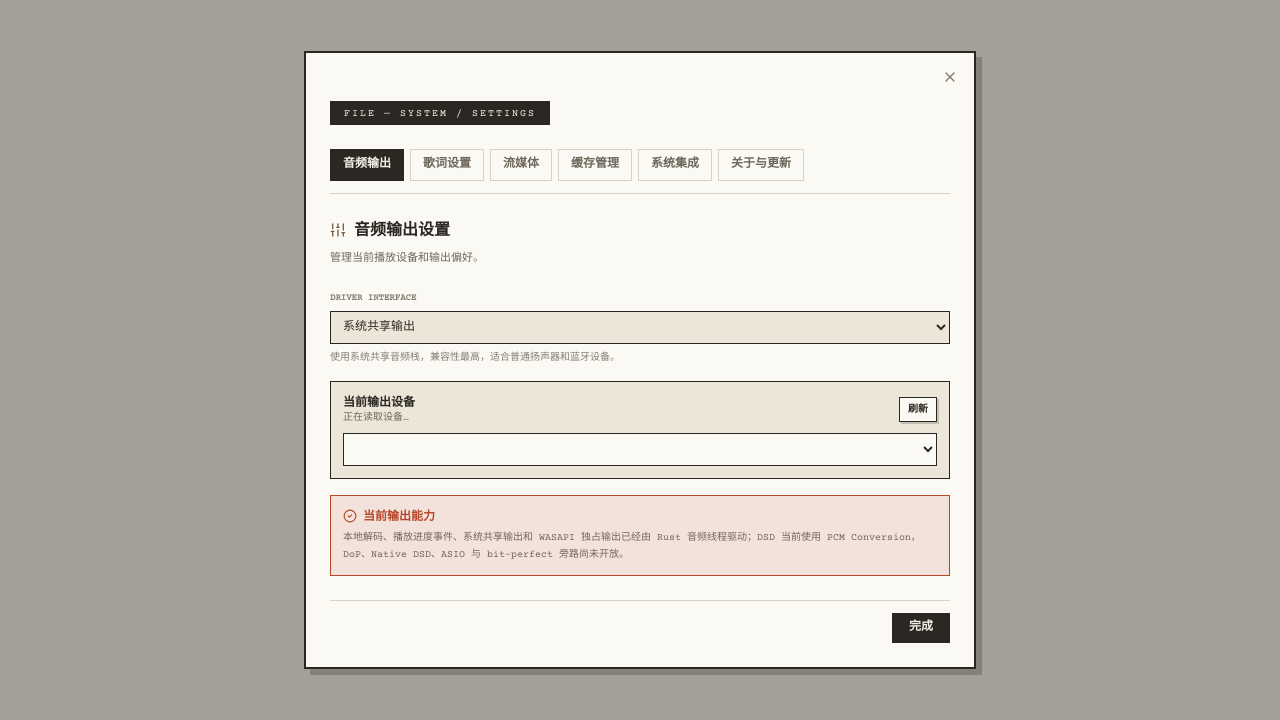
Scenario: 设置页（issues-2） › CACHE-03：没有旧目录时不出现这一块；改了缓存目录时说明原目录的文件不会移动
Click the tab "缓存管理" at (595, 165), box x1=558 y1=149 x2=632 y2=181
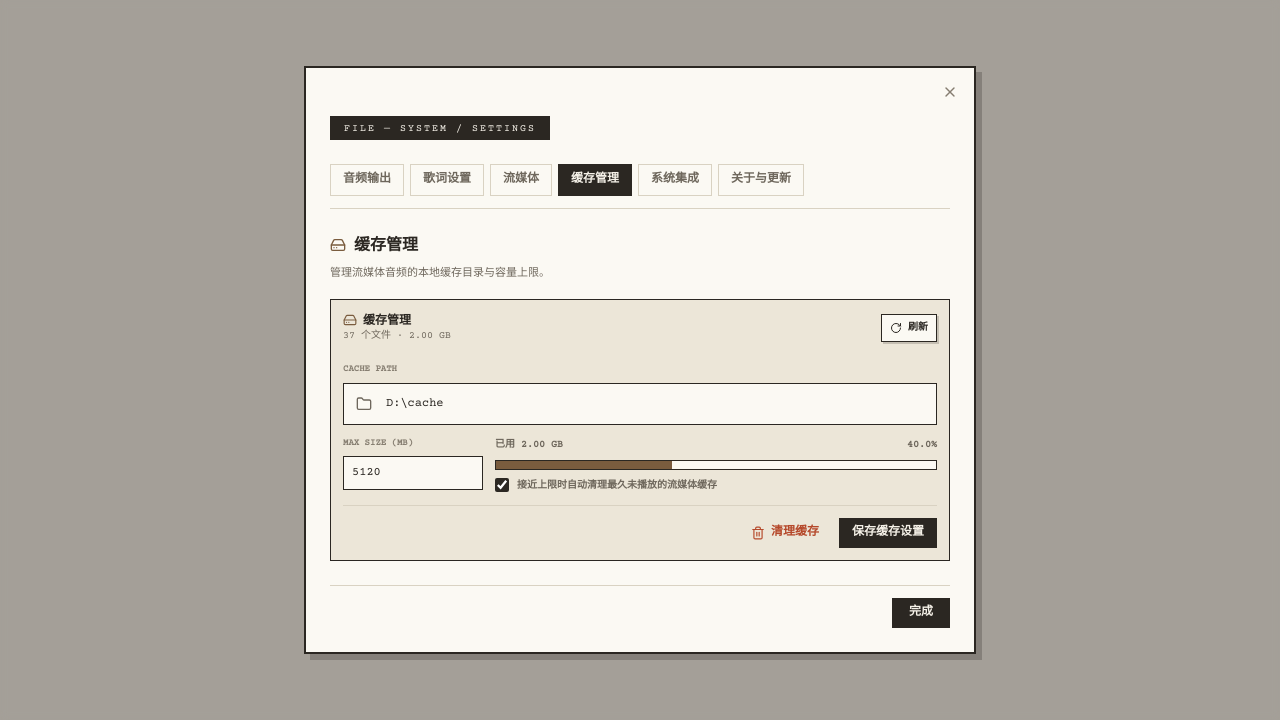
Expected: the text "原目录里已下载的文件不会移动" is not shown
Now the text "37 个文件 · 2.00 GB" is shown, box x1=343 y1=328 x2=451 y2=343
Replace the text in the field labelled "Cache Path" with "E:\\new-cache" at (658, 404), box x1=386 y1=396 x2=930 y2=412
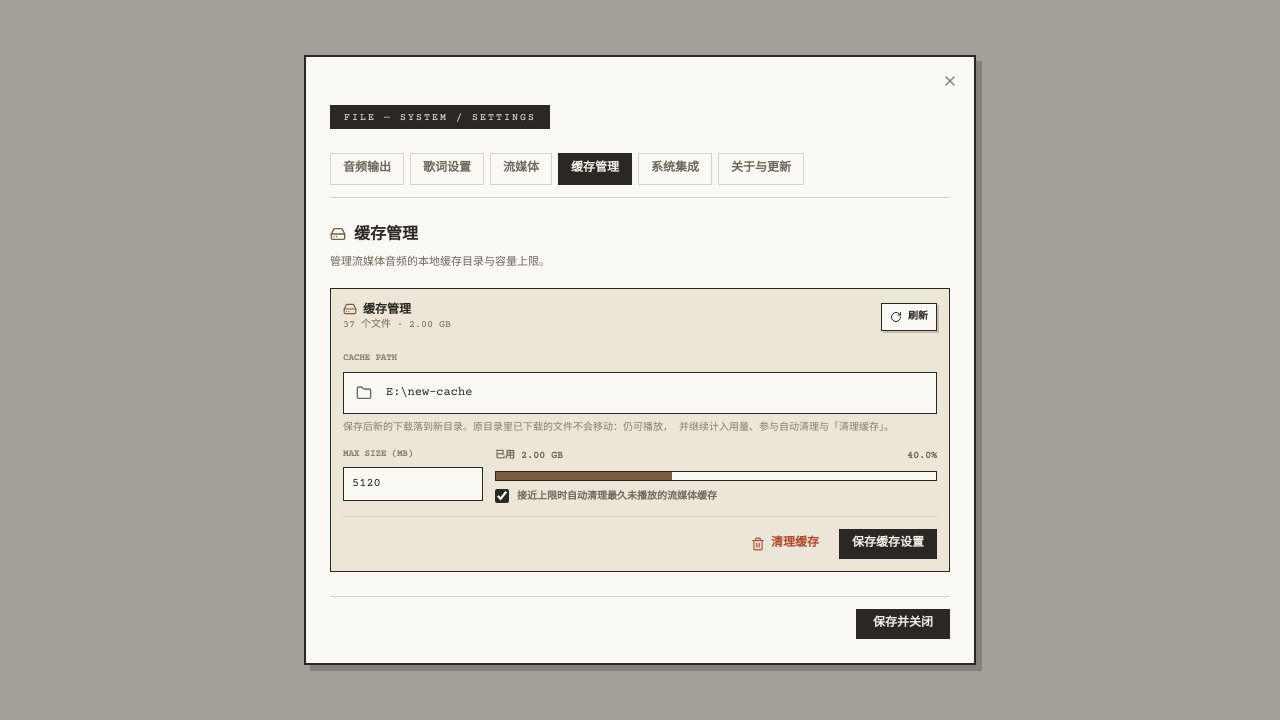
Now the text "保存后新的下载落到新目录。原目录里已下载的文件不会移动：仍可播放， 并继续计入用量、参与自动清理与「清理缓存」。" is shown, box x1=343 y1=420 x2=937 y2=436
Replace the text in the field labelled "Cache Path" with "D:\\cache" at (658, 393), box x1=386 y1=385 x2=930 y2=401
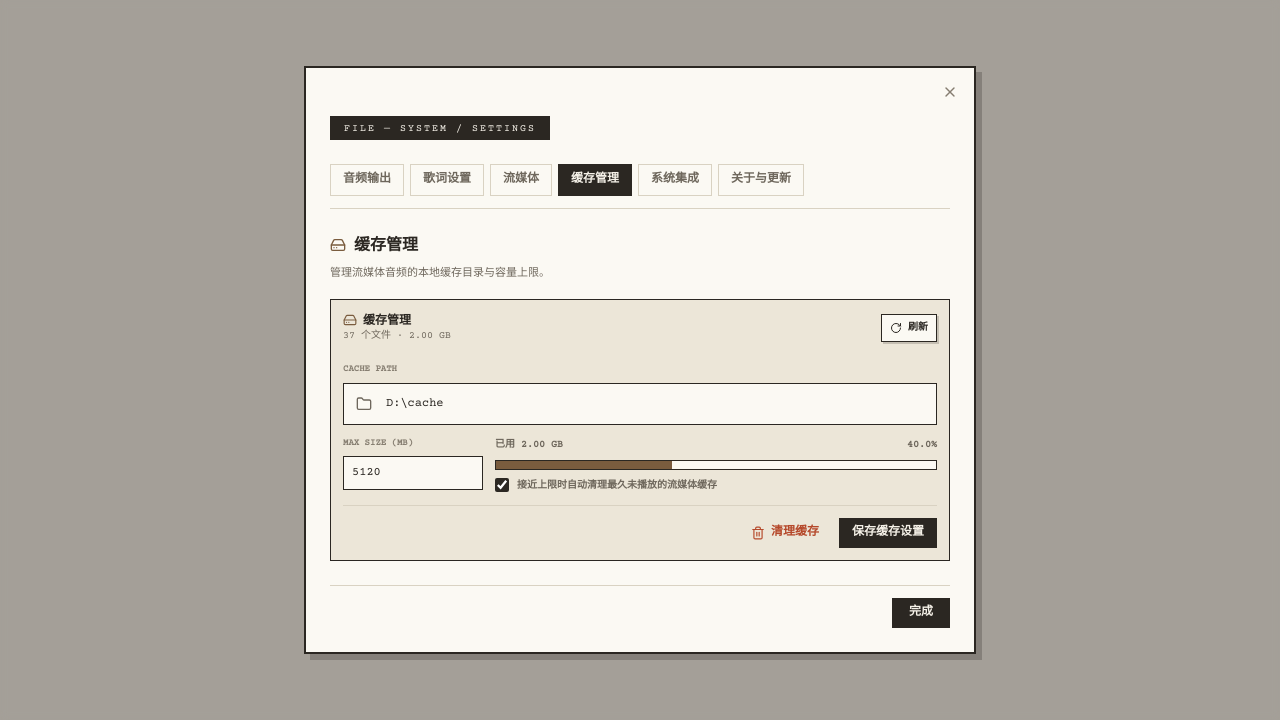
Now the text "原目录里已下载的文件不会移动" is gone
